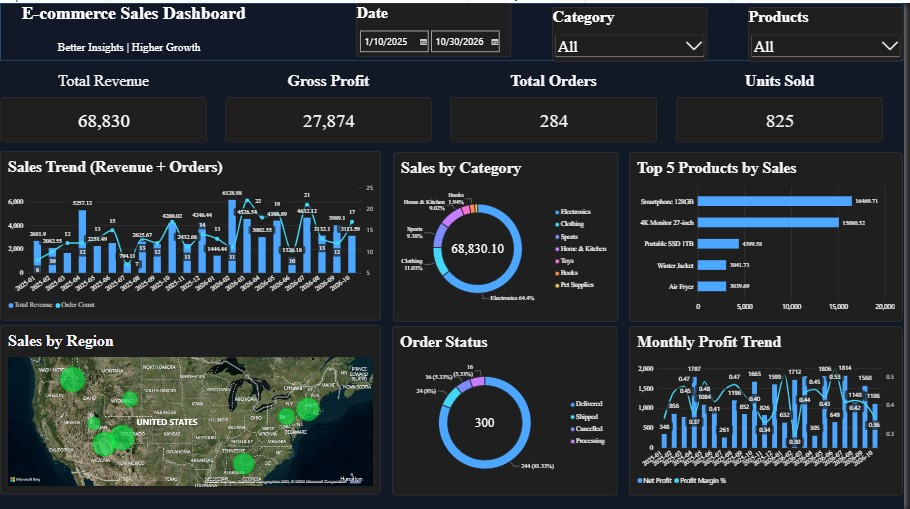

This screenshot's page, from the dashboard's own definition file:
{"tool":"powerbi","page":{"name":"Page 1","canvas":[1920,1080],"ordinal":0},"visuals":[{"type":"shape","box":[0,0,1920,123.5],"z":0},{"type":"textbox","box":[0,0,536.7,123.5],"z":1000},{"type":"slicer","title":"Date","fields":{"Values":["DateTable.Date"]},"box":[755.9,0,330,115],"z":2000},{"type":"slicer","title":"Category","fields":{"Values":["Products.Category"]},"box":[1172.9,7.6,330,115.9],"z":3000},{"type":"slicer","title":"Products","fields":{"Values":["Products.ProductName"]},"box":[1589.9,7.6,330.1,115.9],"z":4000},{"type":"cardVisual","title":"Total Revenue","fields":{"Data":["_Measures.Total Revenue Full"]},"box":[0,146.1,440,150],"z":5000},{"type":"cardVisual","title":"Gross Profit","fields":{"Data":["_Measures.Gross Profit Full"]},"box":[478.7,146.1,440,150],"z":6000},{"type":"cardVisual","title":"Total Orders","fields":{"Data":["_Measures.Total Orders"]},"box":[957.5,146.1,440,150],"z":7000},{"type":"cardVisual","title":"Units Sold","fields":{"Data":["_Measures.Units Sold"]},"box":[1436.2,146.1,440,150],"z":8000},{"type":"lineClusteredColumnComboChart","title":"Sales Trend (Revenue + Orders)","fields":{"Category":["DateTable.Year-Month"],"Y":["_Measures.Total Revenue"],"Y2":["_Measures.Order Count"]},"box":[0,315,810,360],"z":9000},{"type":"donutChart","title":"Order Status","fields":{"Category":["Orders.OrderStatus"],"Y":["_Measures.Order Count"]},"box":[834,686,478.7,360.3],"z":10000},{"type":"map","title":"Sales by Region","fields":{"Category":["Regions.Region Location"],"Size":["_Measures.Total Revenue"]},"box":[0,685,809,360],"z":11000},{"type":"donutChart","title":"Sales by Category","fields":{"Category":["Products.Category"],"Y":["_Measures.Total Revenue"]},"box":[834.5,316,479,360],"z":12000},{"type":"clusteredBarChart","title":"Top 5 Products by Sales","fields":{"Category":["Products.ProductName"],"Y":["_Measures.Total Revenue"]},"box":[1338,316,582,360],"z":13000},{"type":"lineClusteredColumnComboChart","title":"Monthly Profit Trend","fields":{"Category":["DateTable.Year-Month"],"Y":["_Measures.Net Profit"],"Y2":["_Measures.Profit Margin %"]},"box":[1338,686,582,360],"z":14000}]}

Visuals, with their boxes in screenshot pixels (x1, y1, x2, y2), scaled from the page's 1920x1080 canvas onto the 910x509 screenshot:
shape: bbox(0, 0, 909, 58)
textbox: bbox(0, 0, 254, 58)
"Date" slicer: bbox(358, 0, 515, 54)
"Category" slicer: bbox(556, 4, 712, 58)
"Products" slicer: bbox(754, 4, 909, 58)
"Total Revenue" cardVisual: bbox(0, 69, 209, 140)
"Gross Profit" cardVisual: bbox(227, 69, 435, 140)
"Total Orders" cardVisual: bbox(454, 69, 662, 140)
"Units Sold" cardVisual: bbox(681, 69, 889, 140)
"Sales Trend (Revenue + Orders)" lineClusteredColumnComboChart: bbox(0, 148, 384, 318)
"Order Status" donutChart: bbox(395, 323, 622, 493)
"Sales by Region" map: bbox(0, 323, 383, 493)
"Sales by Category" donutChart: bbox(396, 149, 623, 319)
"Top 5 Products by Sales" clusteredBarChart: bbox(634, 149, 909, 319)
"Monthly Profit Trend" lineClusteredColumnComboChart: bbox(634, 323, 909, 493)
